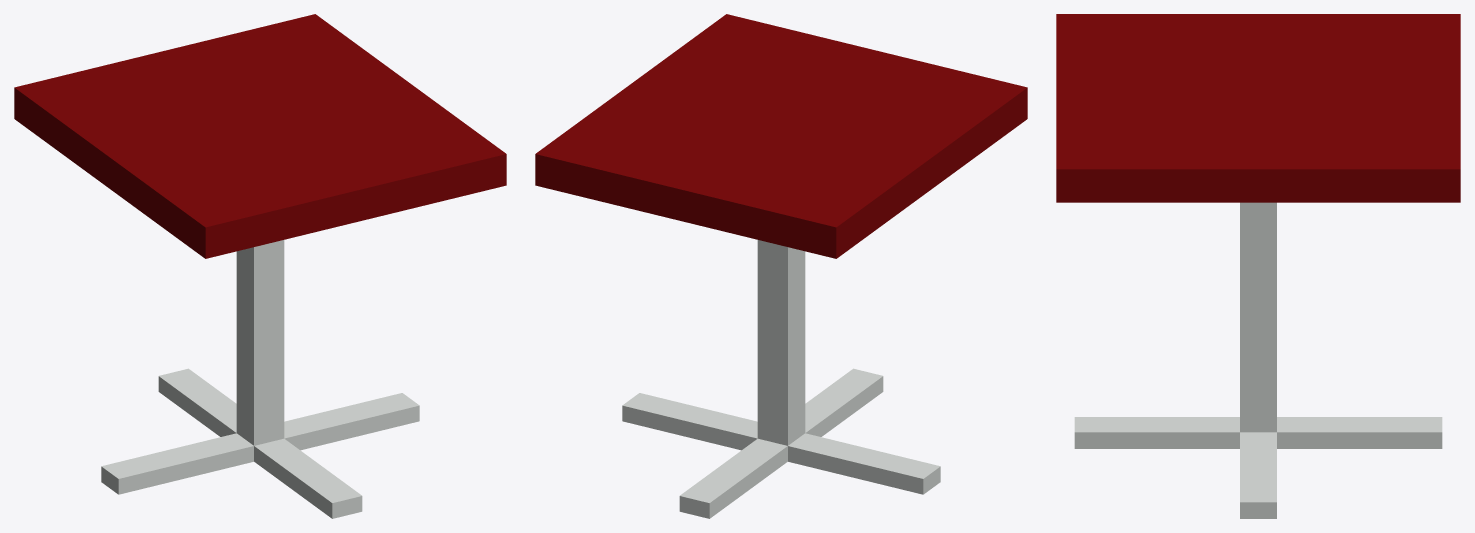
File: table_dispenser.dae
3 views of the same model, side by side, from view 1: azimuth 30°, elevation 25°; view 2: azimuth 150°, elevation 25°; view 3: azimuth 270°, elevation 25° (orthographic). The views are drawn at different scales.
Parts seen in each view (by area): view 1: TableDispenser; view 2: TableDispenser; view 3: TableDispenser.
Part boxes in pixels (<box>): TableDispenser: <box>14,14,506,518</box>; TableDispenser: <box>535,14,1027,518</box>; TableDispenser: <box>1056,14,1460,518</box>.
Size of the model in its own units: 0.7371 by 0.8108 by 0.774.
